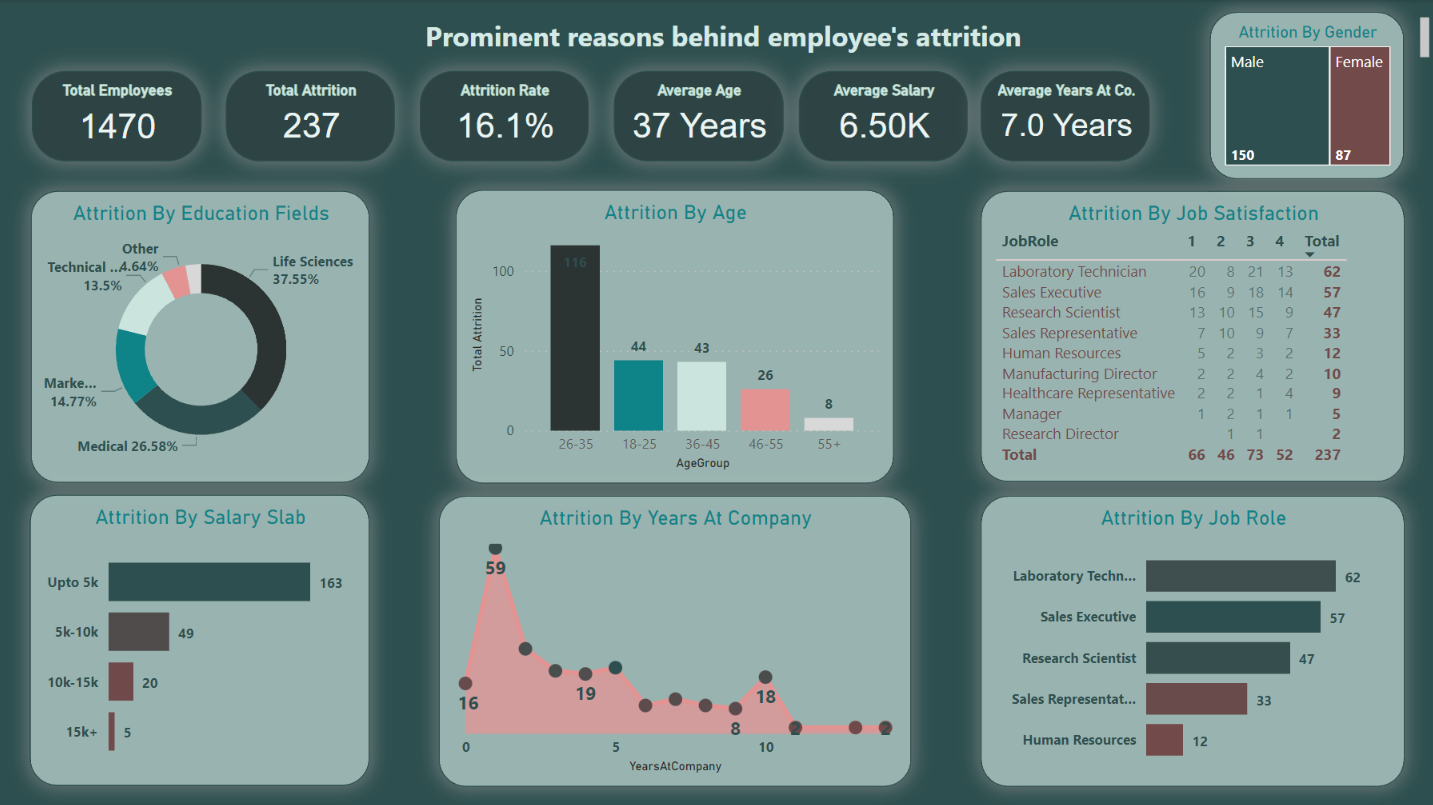

Layout of this report page (visuals, bound fields, positions):
{"tool":"powerbi","page":{"name":"Page 1","canvas":[1280,720],"ordinal":0},"visuals":[{"type":"card","title":"Total Employees","fields":{"Values":["HR_Analytics.Total Employee"]},"box":[31.8,63,150,80],"z":0},{"type":"card","title":"Total Attrition","fields":{"Values":["HR_Analytics.Total Attrition"]},"box":[204,63.1,149.7,79.7],"z":1000},{"type":"card","title":"Attrition Rate ","fields":{"Values":["HR_Analytics.Attrition Rate"]},"box":[375.8,63.1,149.7,79.7],"z":2000},{"type":"card","title":"Average Age","fields":{"Values":["HR_Analytics.Ave Age"]},"box":[547.7,63.1,150,79.7],"z":3000},{"type":"card","title":"Average Salary","fields":{"Values":["HR_Analytics.Avg salary"]},"box":[711.6,62.8,149.7,79.7],"z":4000},{"type":"card","title":"Average Years At Co.","fields":{"Values":["HR_Analytics.Avg years work"]},"box":[871.9,62.8,149.7,79.7],"z":5000},{"type":"donutChart","title":"Attrition By Education Fields","fields":{"Category":["HR_Analytics.EducationField"],"Y":["HR_Analytics.Total Attrition"]},"box":[30.6,169.1,300.2,258.6],"z":6000},{"type":"columnChart","title":"Attrition By Age","fields":{"Category":["HR_Analytics.AgeGroup"],"Y":["HR_Analytics.Total Attrition"]},"box":[407.4,168.3,387.8,260],"z":7000},{"type":"pivotTable","title":"Attrition By Job Satisfaction","fields":{"Rows":["HR_Analytics.JobRole"],"Columns":["HR_Analytics.JobSatisfaction"],"Values":["HR_Analytics.Total Attrition"]},"box":[871.9,169.5,375.5,257.8],"z":8000},{"type":"barChart","title":"Attrition By Salary Slab","fields":{"Category":["HR_Analytics.SalarySlab"],"Y":["HR_Analytics.Total Attrition"]},"box":[30.1,438.8,300.9,258],"z":9000},{"type":"barChart","title":"Attrition By Job Role","fields":{"Y":["HR_Analytics.Total Attrition"],"Category":["HR_Analytics.JobRole"]},"box":[871.9,438.9,375.5,257.8],"z":10000},{"type":"areaChart","title":"Attrition By Years At Company ","fields":{"Category":["HR_Analytics.YearsAtCompany"],"Y":["HR_Analytics.Total Attrition"]},"box":[392.4,438.9,418.1,257.8],"z":11000},{"type":"textbox","box":[22,11,1252.3,51.4],"z":12000},{"type":"treemap","title":"Attrition By Gender","fields":{"Values":["HR_Analytics.Total Attrition"],"Group":["HR_Analytics.Gender"]},"box":[1075.4,11,171.8,147.9],"z":13000}]}

Visuals, with their boxes in screenshot pixels (x1, y1, x2, y2), scaled from the page's 1280x720 canvas onto the 1433x805 screenshot:
"Total Employees" card: [x1=36, y1=70, x2=204, y2=160]
"Total Attrition" card: [x1=228, y1=71, x2=396, y2=160]
"Attrition Rate " card: [x1=421, y1=71, x2=588, y2=160]
"Average Age" card: [x1=613, y1=71, x2=781, y2=160]
"Average Salary" card: [x1=797, y1=70, x2=964, y2=159]
"Average Years At Co." card: [x1=976, y1=70, x2=1144, y2=159]
"Attrition By Education Fields" donutChart: [x1=34, y1=189, x2=370, y2=478]
"Attrition By Age" columnChart: [x1=456, y1=188, x2=890, y2=479]
"Attrition By Job Satisfaction" pivotTable: [x1=976, y1=190, x2=1397, y2=478]
"Attrition By Salary Slab" barChart: [x1=34, y1=491, x2=371, y2=779]
"Attrition By Job Role" barChart: [x1=976, y1=491, x2=1397, y2=779]
"Attrition By Years At Company " areaChart: [x1=439, y1=491, x2=907, y2=779]
textbox: [x1=25, y1=12, x2=1427, y2=70]
"Attrition By Gender" treemap: [x1=1204, y1=12, x2=1396, y2=178]
